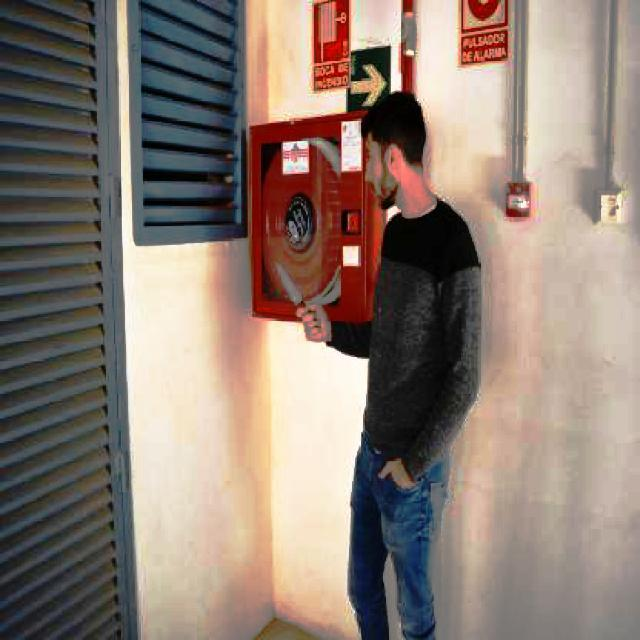Knife: (269, 254, 324, 343)
